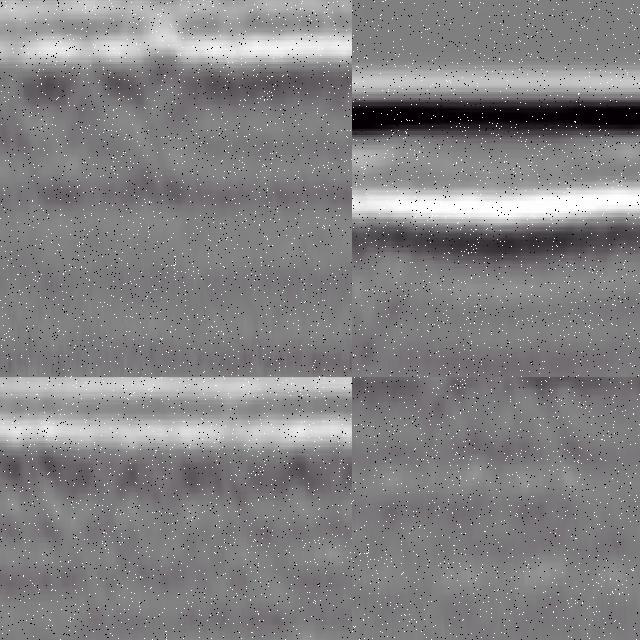loose: (9, 45, 187, 209)
